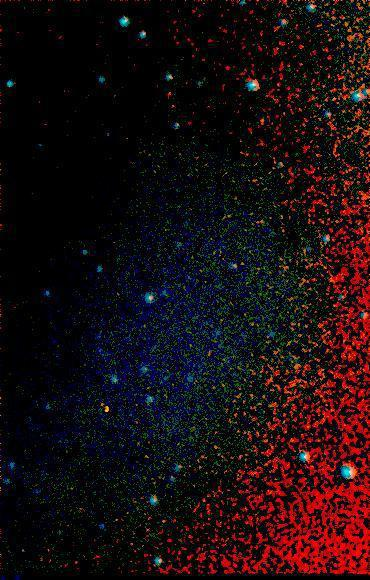star: (213, 53, 243, 83)
